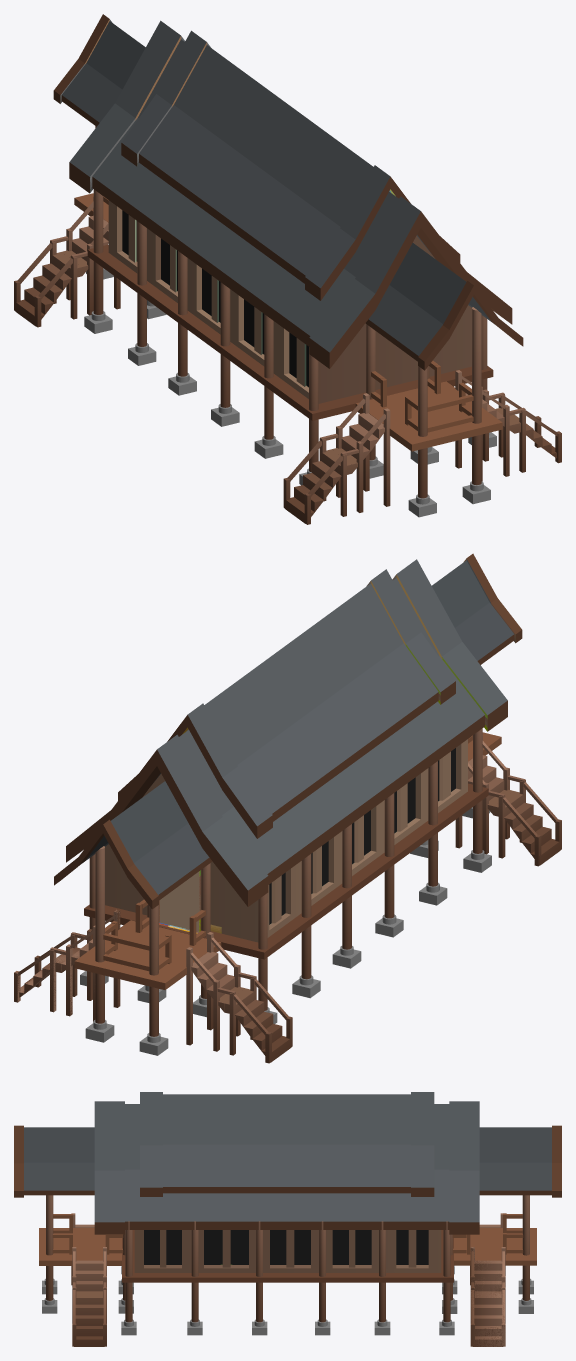
File: Rumah Adat Fix.fbx
3 renders of one model, top to bottom at view 1: azimuth 30°, elevation 25°; view 2: azimuth 150°, elevation 25°; view 3: azimuth 270°, elevation 25°, orthographic. The views are drawn at different scales.
Parts seen in each view (by area): view 1: Cube.008, Cube.007, Cube.006, Cylinder.003, Cube.035, Cube.063, Cube.005, Cube.064, Cube.011, Cube.036, Cube.049, Cube.054; view 2: Cube.008, Cube.007, Cube.006, Cylinder.003, Cube.005, Cube.064, Cube.063, Cube.035, Cube.011, Cube.004, Cube.062, Cube.028 (+2 smaller); view 3: Cube.008, Cube.007, Cube.006, Cube.005, Cylinder.003, Cube.035, Cube.048, Cube.049, Cube.011, Cube.004, Cube.036, Cube.062 (+2 smaller).
Boxes of the visible parts, x1=… form: Cube.008: x1=121, y1=30, x2=460, y2=300; Cube.007: x1=69, y1=20, x2=512, y2=368; Cube.006: x1=87, y1=200, x2=493, y2=420; Cylinder.003: x1=93, y1=126, x2=487, y2=498; Cube.035: x1=365, y1=243, x2=523, y2=370; Cube.063: x1=283, y1=393, x2=390, y2=524; Cube.005: x1=53, y1=14, x2=145, y2=126; Cube.064: x1=14, y1=197, x2=120, y2=327; Cube.011: x1=84, y1=268, x2=496, y2=517; Cube.036: x1=355, y1=381, x2=502, y2=451; Cube.049: x1=455, y1=370, x2=561, y2=481; Cube.054: x1=371, y1=360, x2=473, y2=432; Cube.008: x1=118, y1=569, x2=455, y2=838; Cube.007: x1=66, y1=559, x2=507, y2=906; Cube.006: x1=84, y1=739, x2=488, y2=959; Cylinder.003: x1=89, y1=665, x2=482, y2=1036; Cube.005: x1=54, y1=781, x2=212, y2=909; Cube.064: x1=186, y1=932, x2=292, y2=1063; Cube.063: x1=455, y1=736, x2=561, y2=866; Cube.035: x1=432, y1=553, x2=522, y2=664; Cube.011: x1=80, y1=807, x2=491, y2=1055; Cube.004: x1=74, y1=920, x2=221, y2=989; Cube.062: x1=14, y1=909, x2=119, y2=1021; Cube.028: x1=103, y1=899, x2=205, y2=971; Cube.008: x1=140, y1=1092, x2=434, y2=1196; Cube.007: x1=94, y1=1101, x2=479, y2=1234; Cube.006: x1=122, y1=1230, x2=453, y2=1282; Cube.005: x1=479, y1=1125, x2=561, y2=1197; Cylinder.003: x1=46, y1=1195, x2=529, y2=1322; Cube.035: x1=14, y1=1125, x2=94, y2=1197; Cube.048: x1=470, y1=1247, x2=505, y2=1346; Cube.049: x1=72, y1=1247, x2=106, y2=1346; Cube.011: x1=42, y1=1265, x2=533, y2=1335; Cube.004: x1=454, y1=1228, x2=536, y2=1265; Cube.036: x1=39, y1=1228, x2=121, y2=1265; Cube.062: x1=470, y1=1247, x2=505, y2=1346.
Size of the model in its own units: 1418 by 1509 by 3568.
